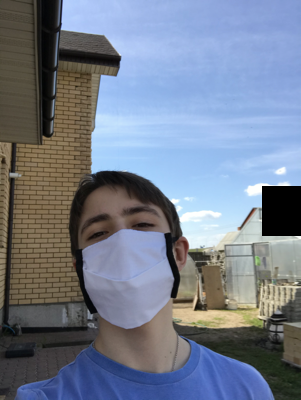with_mask: (76, 203, 181, 330)
